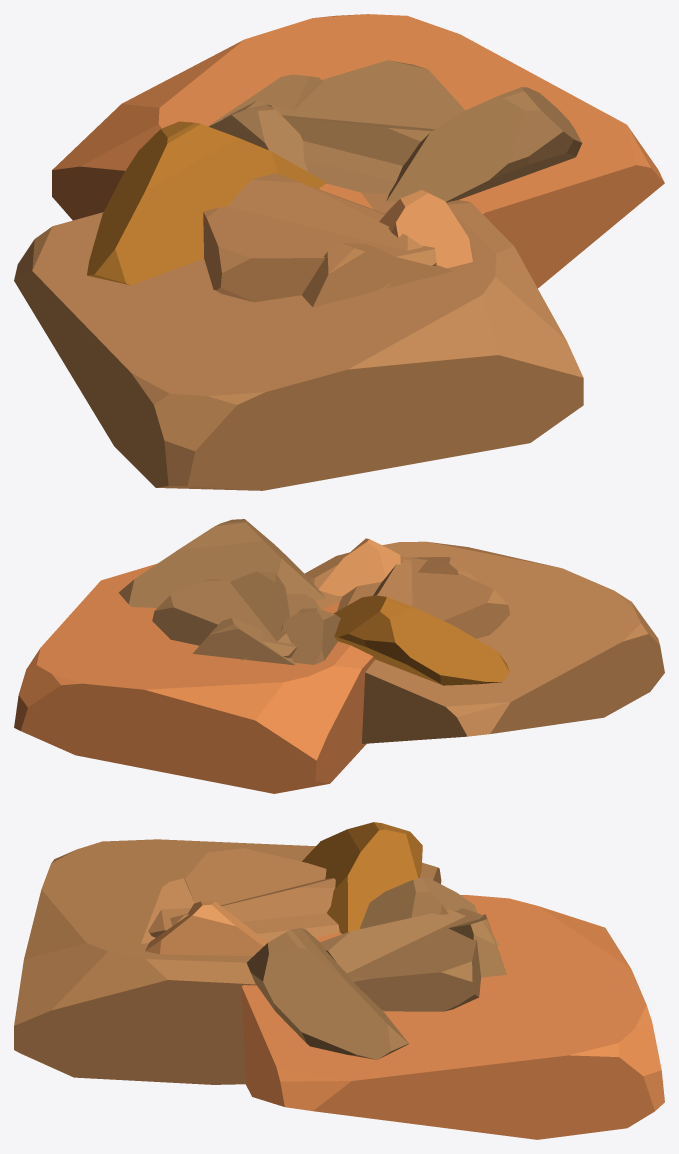
File: Rocher_3.fbx
3 renders of one model, top to bottom at view 1: azimuth 30°, elevation 25°; view 2: azimuth 150°, elevation 25°; view 3: azimuth 270°, elevation 25°, orthographic. The views are drawn at different scales.
Parts seen in each view (by area): view 1: Куб.002, Куб.003; view 2: Куб.003, Куб.002; view 3: Куб.003, Куб.002.
Boxes of the visible parts, bbox=[...] form: Куб.002: bbox=[14, 121, 583, 490]; Куб.003: bbox=[52, 14, 664, 288]; Куб.003: bbox=[14, 519, 375, 793]; Куб.002: bbox=[304, 538, 664, 743]; Куб.003: bbox=[241, 877, 664, 1139]; Куб.002: bbox=[14, 822, 441, 1084].
Bounding box in the file's own units: 326 × 102 × 338.
